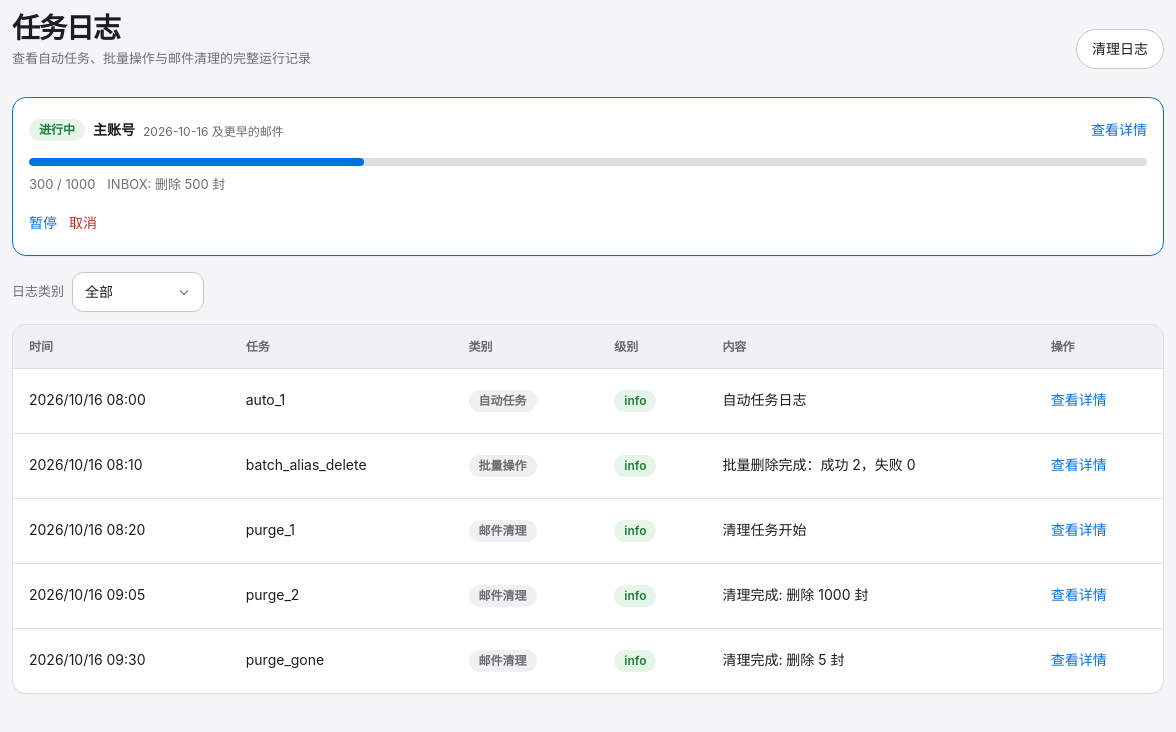
it: LogsPage 清理任务与类别 › 类别筛选: 选「邮件清理」只显示清理日志
Expected: the text "自动任务日志" is shown, [706,368,1035,434]
Step 1. Click the button with aria-label "日志类别" → [138, 292], box [72,272,204,312]
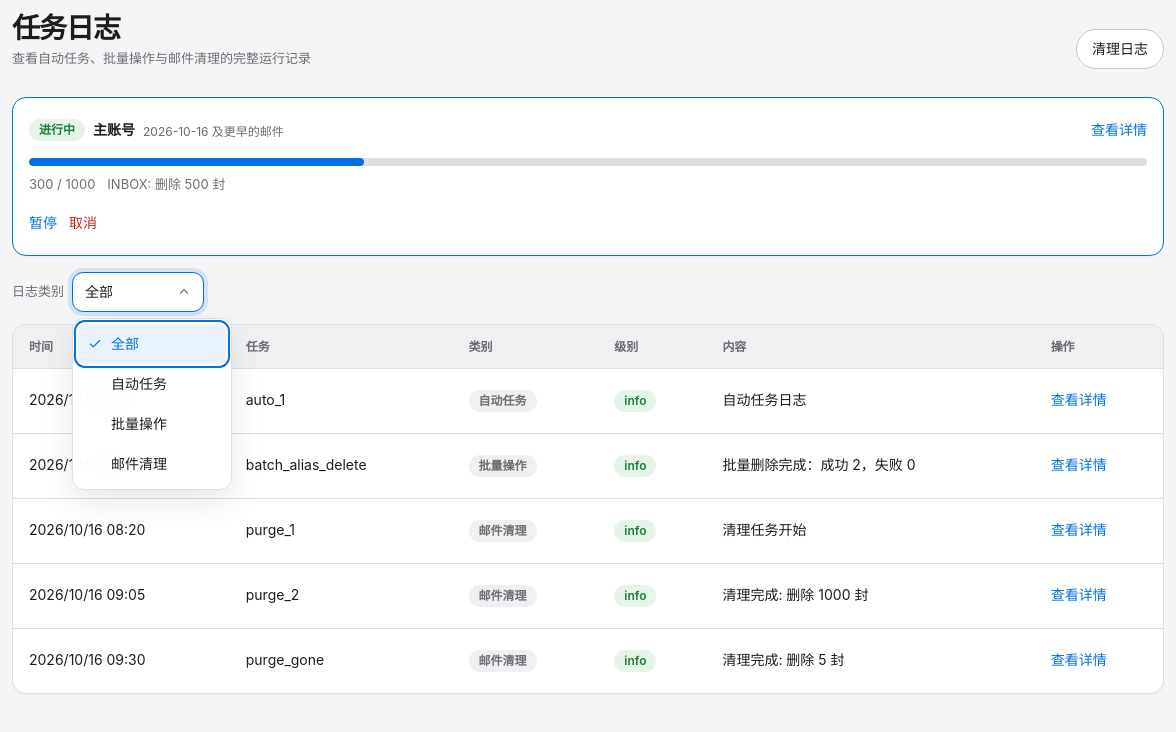
Step 2. Click the option "邮件清理" → [152, 464], box [78,444,226,484]
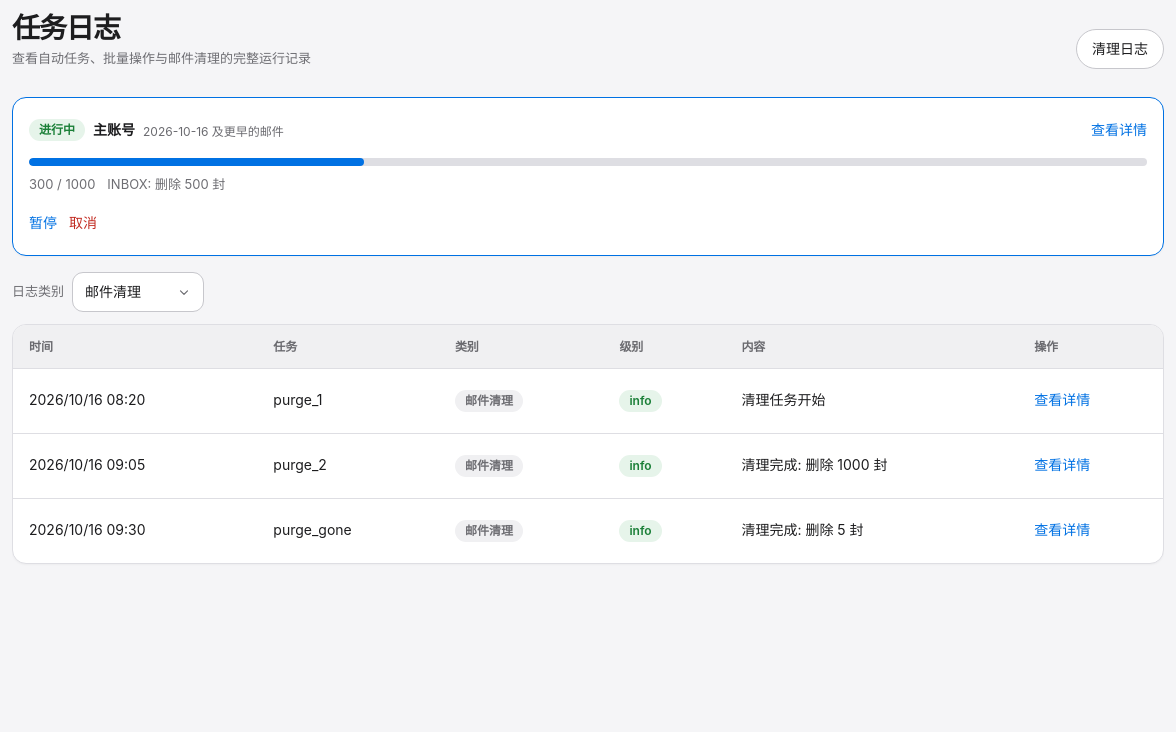
Expected: the text "清理任务开始" is shown, [725,368,1018,434]
Expected: the text "自动任务日志" is gone
Expected: the button with aria-label "日志类别：邮件清理" is shown, [72,272,204,312]
